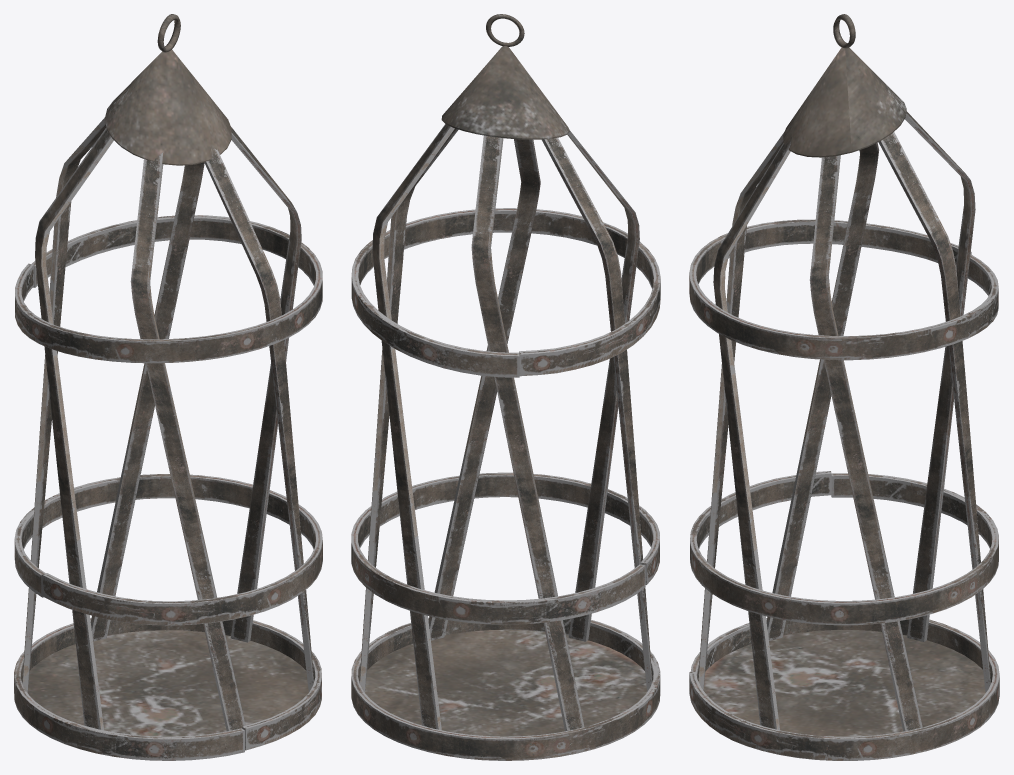
Rendered from SM_MetalCage02.FBX.
3 views of the same model, side by side, from view 1: azimuth 30°, elevation 25°; view 2: azimuth 150°, elevation 25°; view 3: azimuth 270°, elevation 25° (orthographic).
Parts seen in each view (by area): view 1: SM_MetalCage02; view 2: SM_MetalCage02; view 3: SM_MetalCage02.
Part boxes in pixels (box(x1,y1,x2,y2)): SM_MetalCage02: box(14, 14, 322, 760); SM_MetalCage02: box(351, 14, 660, 760); SM_MetalCage02: box(689, 14, 999, 760).
Size of the model in its own units: 90.8 by 91.01 by 221.
